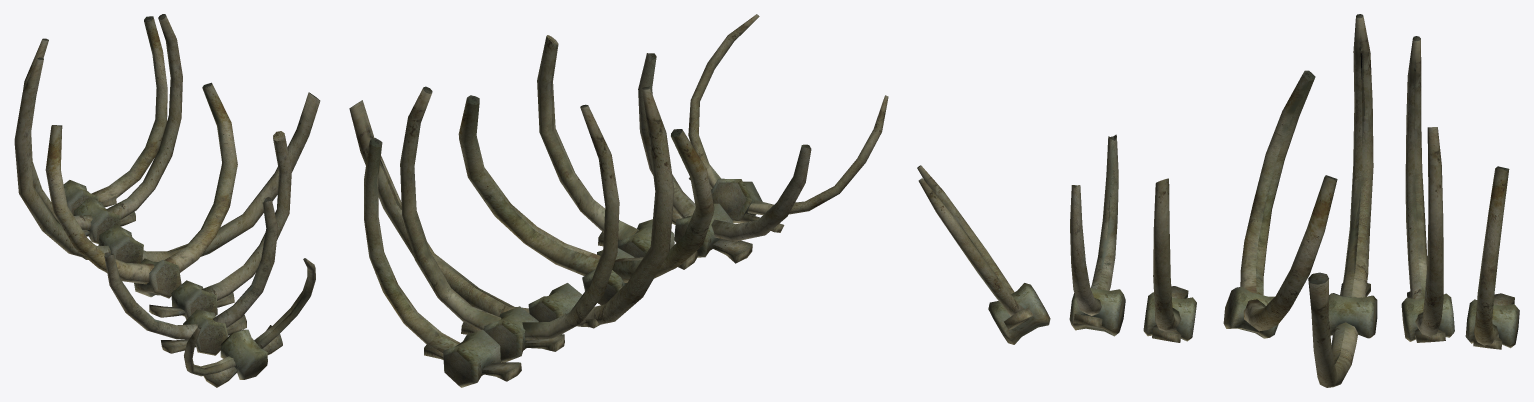
Rendered from bone_whale_rib_up01.fbx.
3 views of the same model, side by side, from view 1: azimuth 30°, elevation 25°; view 2: azimuth 150°, elevation 25°; view 3: azimuth 270°, elevation 25° (orthographic). The views are drawn at different scales.
Parts seen in each view (by area): view 1: bone_whale_rib_up01; view 2: bone_whale_rib_up01; view 3: bone_whale_rib_up01.
Boxes of the visible parts, box(x1,y1,x2,y2) form: bone_whale_rib_up01: box(14, 14, 320, 387); bone_whale_rib_up01: box(349, 14, 888, 387); bone_whale_rib_up01: box(917, 14, 1519, 387).
Bounding box in the file's own units: 19.37 × 14.49 × 27.68.
